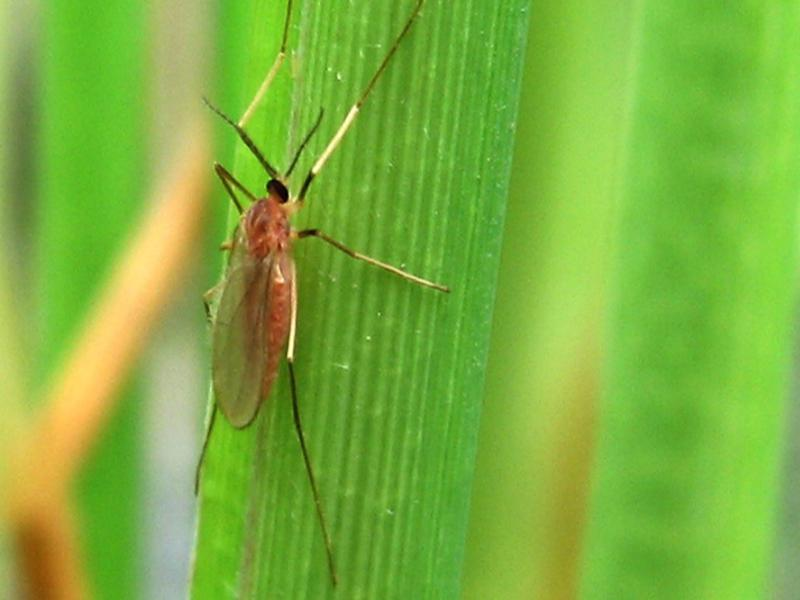Rice_case_worm: (166, 153, 345, 436)
